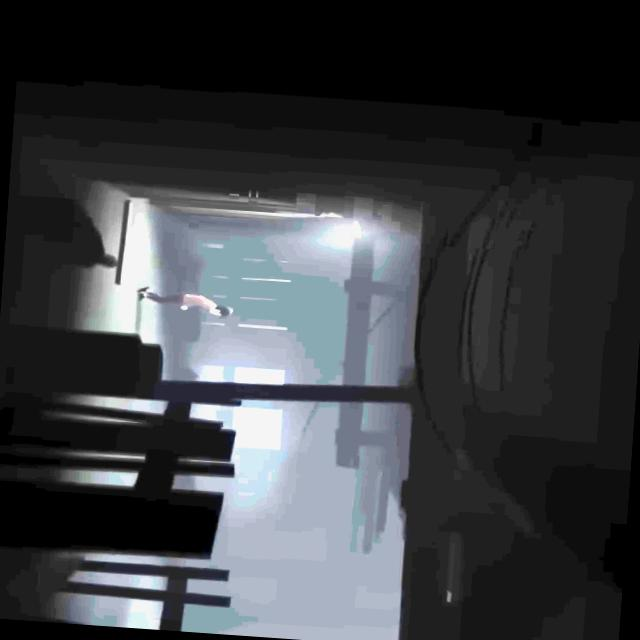boy: (138, 286, 235, 316)
